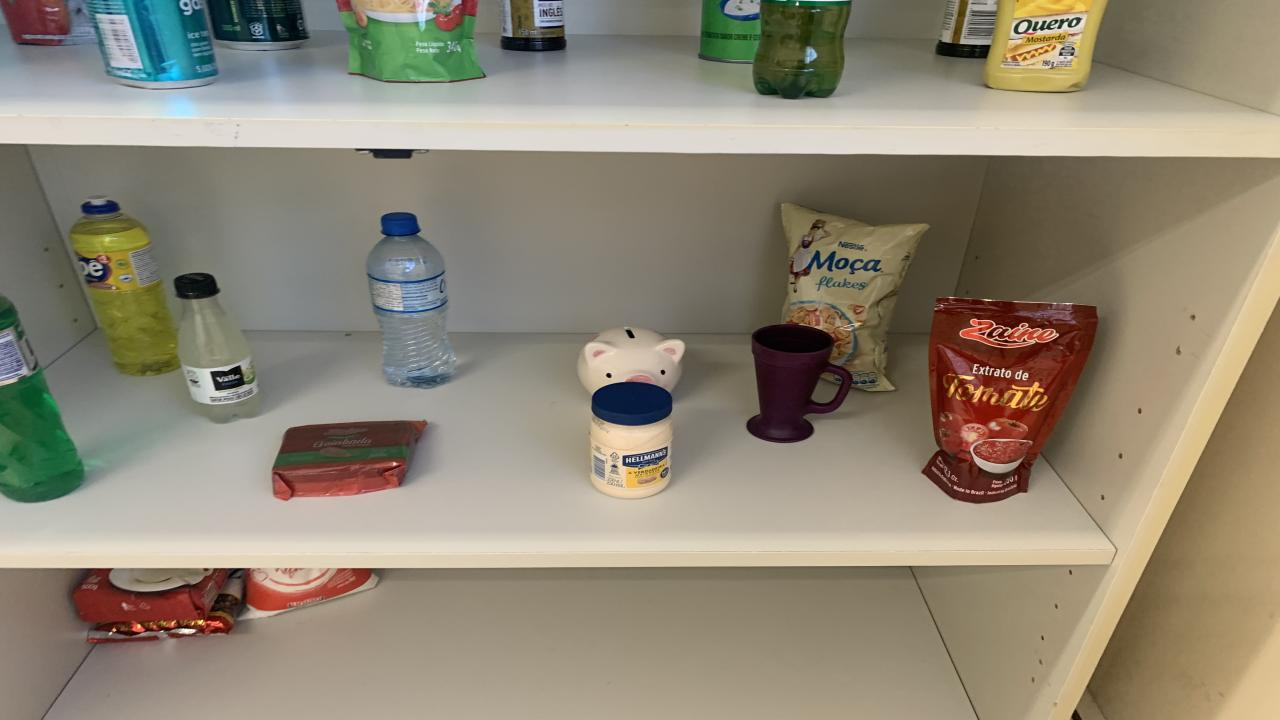Detergent-Cleanup_Items: (70, 199, 180, 375), (0, 294, 85, 502)
English_Sauce-Pantry_Items: (935, 0, 998, 58), (500, 0, 568, 51)
Flakes-Snacks: (782, 202, 928, 392), (970, 439, 1032, 472)
Guarana-Drinks: (752, 0, 850, 98)
Guarana_Can-Drinks: (85, 0, 218, 88), (208, 0, 310, 51)
Guava-Snacks: (272, 420, 428, 501)
Mayonnaise-Pantry_Items: (590, 382, 672, 499)
Mustard-Pantry_Items: (982, 0, 1108, 92)
Pig_Safe-Miscellaneous: (578, 326, 685, 392)
Pringles-Snacks: (700, 0, 760, 64)
Soda-Drinks: (175, 274, 262, 424)
Tea-Drinks: (85, 0, 218, 88)
Tomato_Sauce-Pantry_Items: (922, 298, 1098, 502), (338, 0, 485, 82)
Water_Bottle-Drinks: (365, 212, 455, 388)
